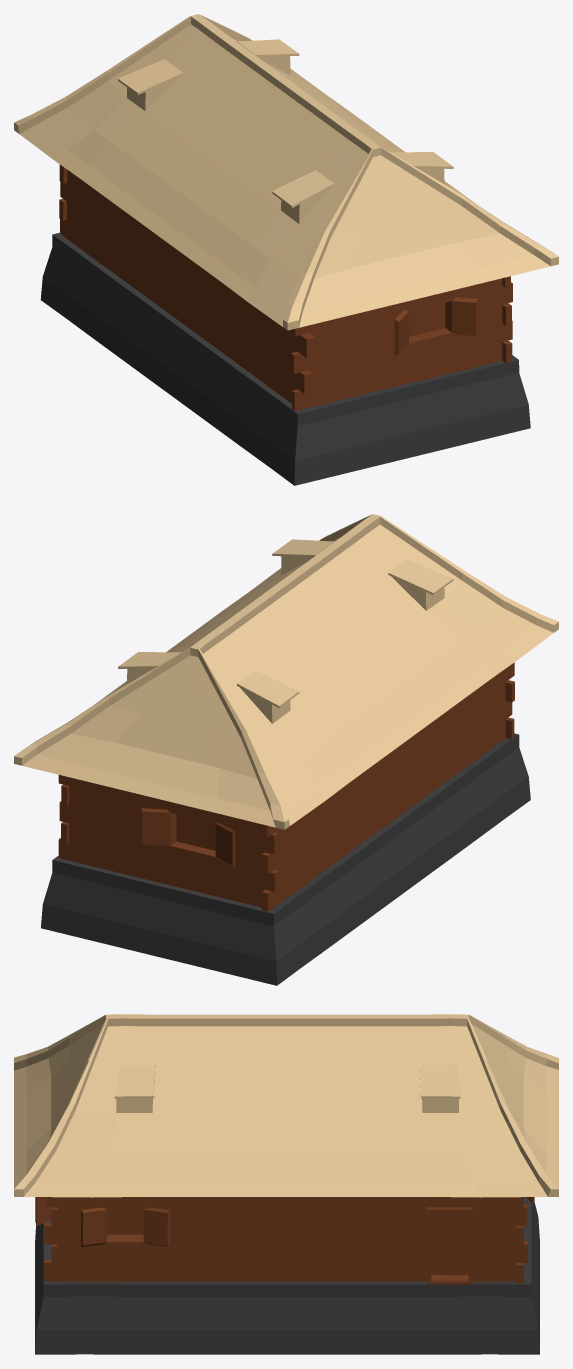
Rendered from House_Big_DP_2609.fbx.
3 renders of one model, top to bottom at view 1: azimuth 30°, elevation 25°; view 2: azimuth 150°, elevation 25°; view 3: azimuth 270°, elevation 25°, orthographic.
Parts seen in each view (by area): view 1: Cube.001; view 2: Cube.001; view 3: Cube.001.
Boxes of the visible parts, x1,y1,x2,y2 form: Cube.001: (14, 14, 558, 485); Cube.001: (14, 514, 558, 985); Cube.001: (14, 1014, 558, 1354).
Bounding box in the file's own units: 1379 × 1373 × 2413.
